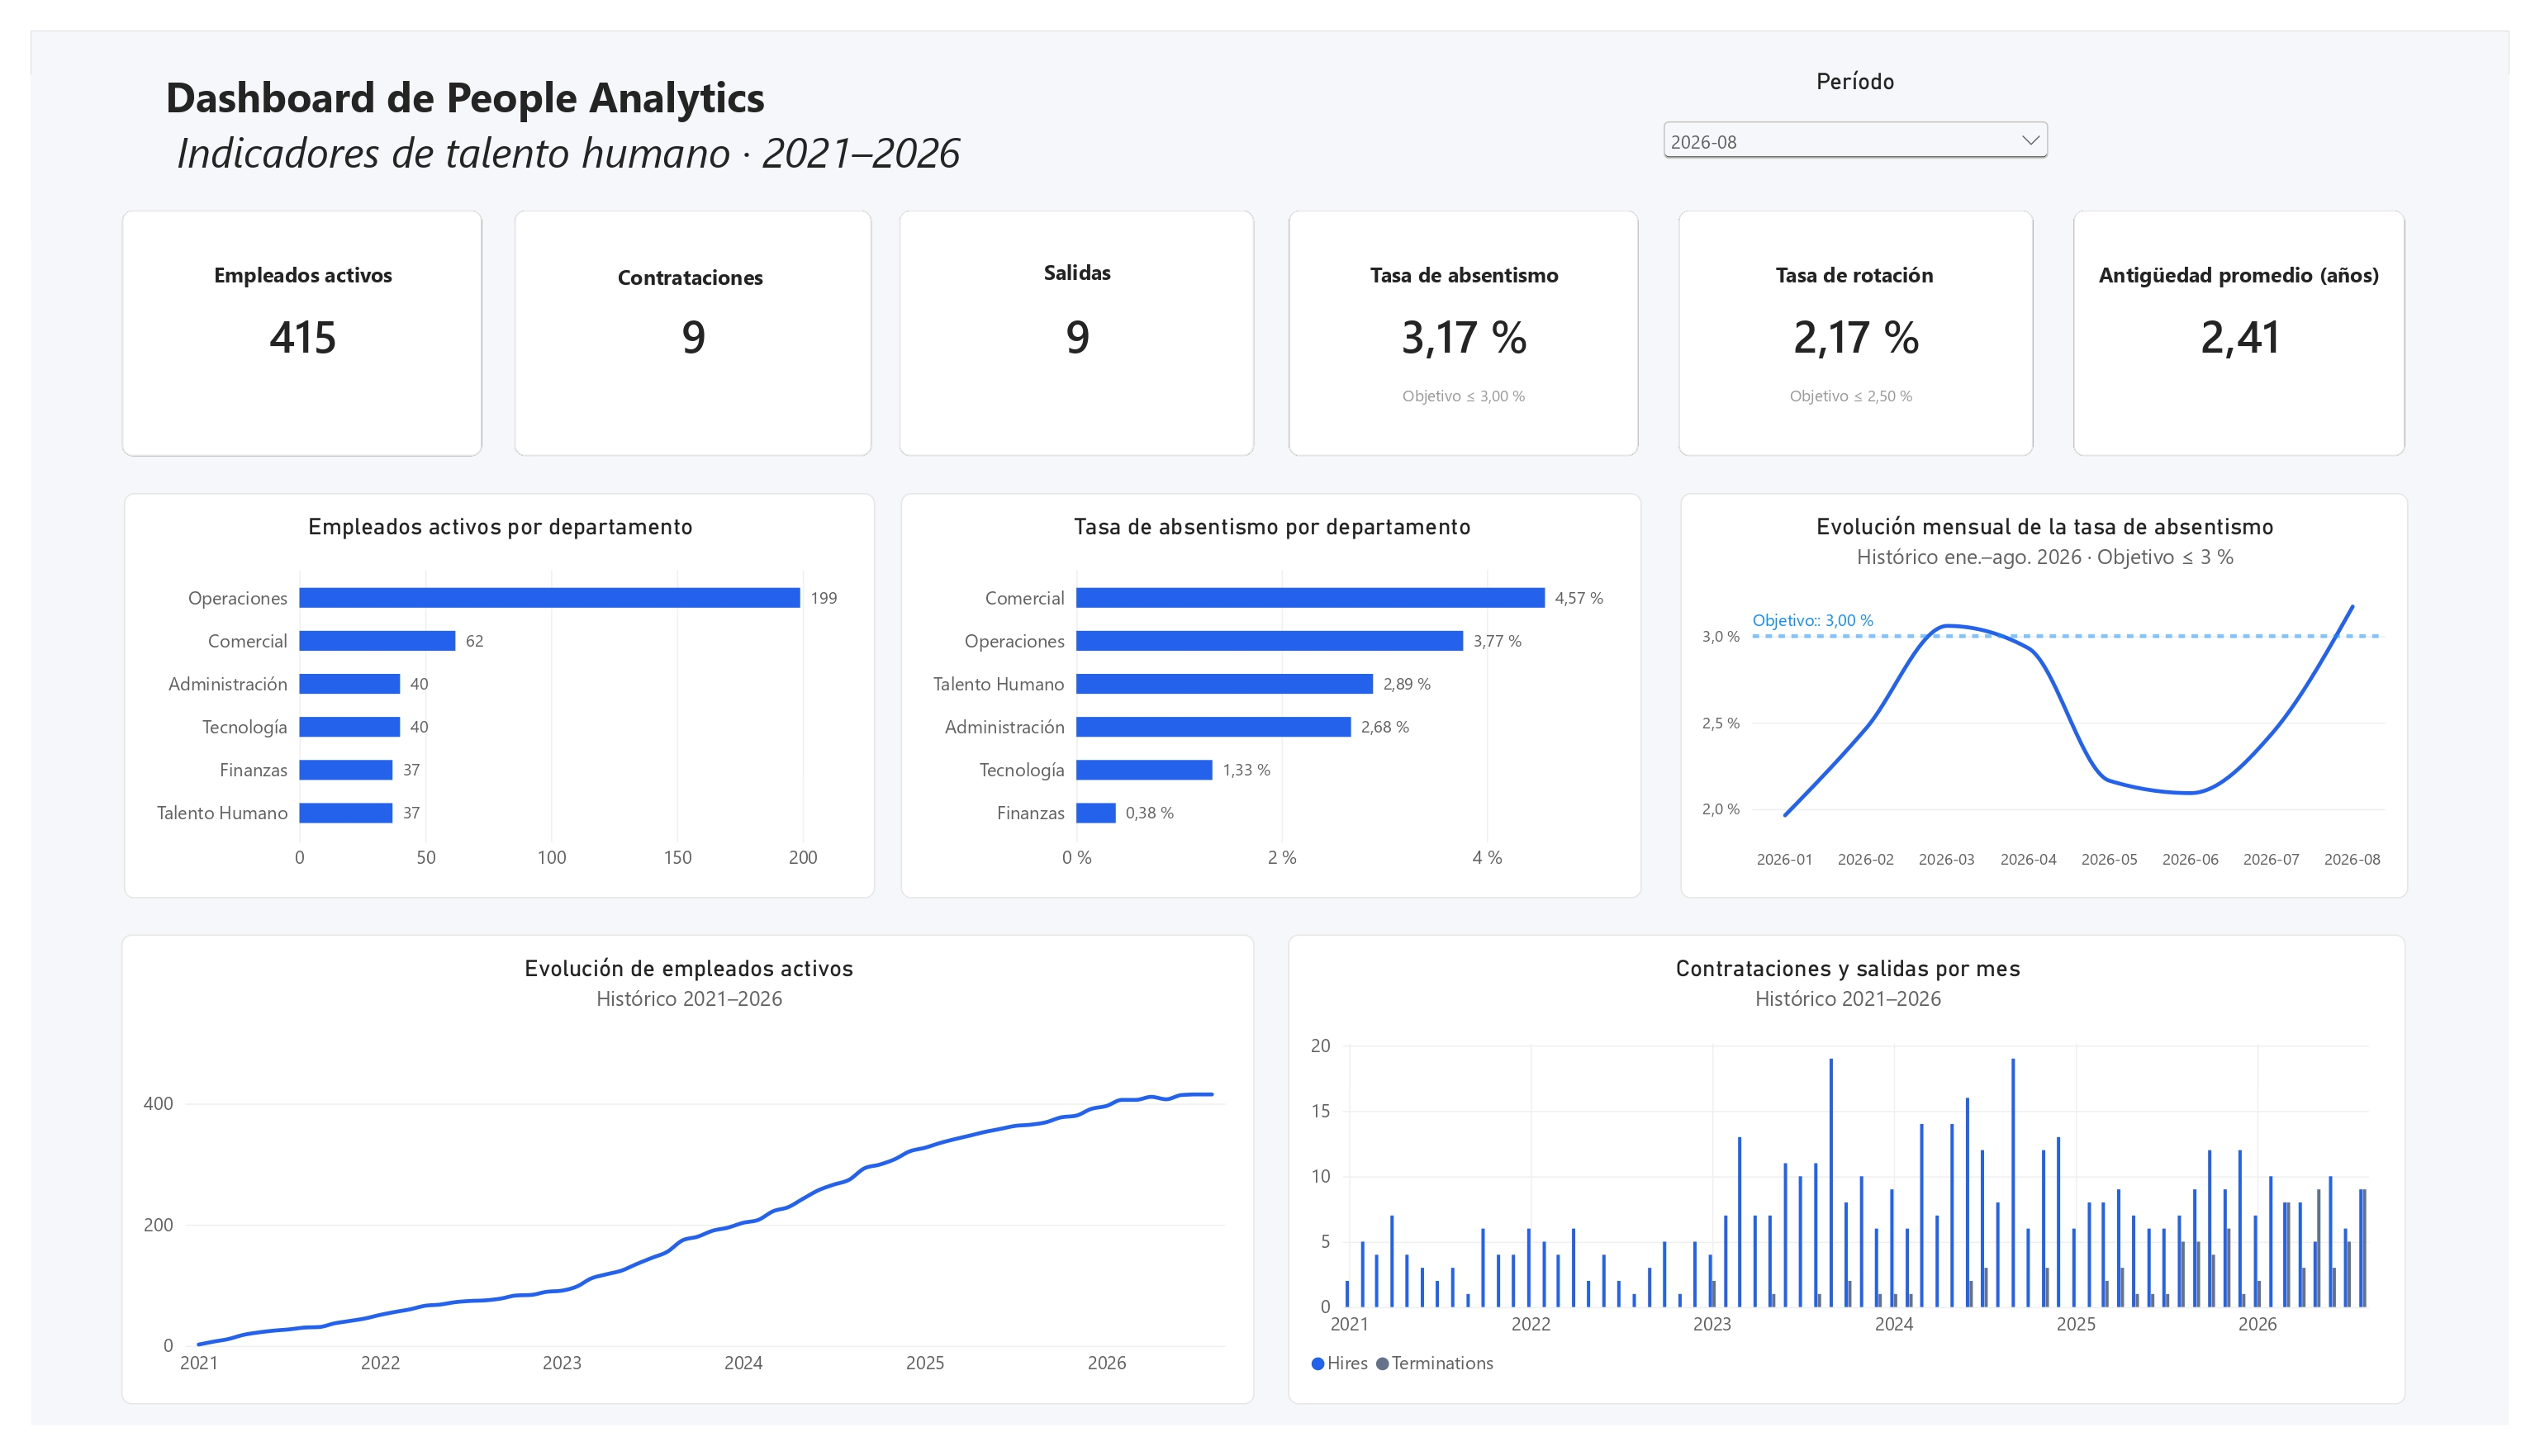

What the dashboard file says about the page in this screenshot:
{"tool":"powerbi","page":{"name":"Resumen ejecutivo","canvas":[1920,1080],"ordinal":0},"visuals":[{"type":"slicer","title":"Período","fields":{"Values":["CalendarTable.year_month"]},"box":[1260,28,308,90],"z":0},{"type":"cardVisual","title":"Empleados activos","fields":{"Data":["_Measures.Headcount"]},"box":[70,138,280,192],"z":0,"group":"g1"},{"type":"cardVisual","title":"Contrataciones","fields":{"Data":["_Measures.Hires"]},"box":[374,138,278,192],"z":1000,"group":"g1"},{"type":"lineChart","title":"Evolución de empleados activos","fields":{"Category":["CalendarTable.month_start"],"Y":["_Measures.Headcount"]},"box":[70,700,878,364],"z":1000},{"type":"cardVisual","title":"Salidas","fields":{"Data":["_Measures.Terminations"]},"box":[672,138,276,192],"z":2000,"group":"g1"},{"type":"clusteredColumnChart","title":"Contrataciones y salidas por mes","fields":{"Category":["CalendarTable.month_start"],"Y":["_Measures.Hires","_Measures.Terminations"]},"box":[974,700,866,364],"z":2000},{"type":"textbox","box":[104,28,686,110],"z":3000},{"type":"cardVisual","title":"Tasa de rotación","fields":{"Data":["_Measures.Turnover Rate"]},"box":[1276,138,276,192],"z":3000,"group":"g1"},{"type":"group","id":"g1","title":"Grupo 1","box":[70,138,1770,192],"z":4000},{"type":"cardVisual","title":"Tasa de absentismo","fields":{"Data":["_Measures.Absenteeism Rate"]},"box":[974,138,272,192],"z":4000,"group":"g1"},{"type":"cardVisual","title":"Antigüedad promedio (años)","fields":{"Data":["_Measures.Average Tenure Years"]},"box":[1582,138,258,192],"z":5000,"group":"g1"},{"type":"textbox","box":[86,178,250,42],"z":6000,"group":"g1"},{"type":"textbox","box":[386,180,250,42],"z":7000,"group":"g1"},{"type":"textbox","box":[686,176,250,44],"z":8000,"group":"g1"},{"type":"textbox","box":[986,178,250,38],"z":9000,"group":"g1"},{"type":"clusteredBarChart","title":"Empleados activos por departamento","fields":{"Category":["ContractsTable.department"],"Y":["_Measures.Headcount"]},"box":[72,358,582,314],"z":9000},{"type":"textbox","box":[1288,178,250,44],"z":10000,"group":"g1"},{"type":"clusteredBarChart","title":"Tasa de absentismo por departamento","fields":{"Category":["DepartmentsTable.department"],"Y":["_Measures.Absenteeism Rate"]},"box":[674,358,574,314],"z":10000},{"type":"textbox","box":[1586,178,250,40],"z":11000,"group":"g1"},{"type":"textbox","box":[1062.7,271.8,96.7,25.8],"z":12000,"group":"g1"},{"type":"textbox","box":[1362.7,271.8,100,25],"z":13000,"group":"g1"},{"type":"lineChart","title":"Evolución mensual de la tasa de absentismo","fields":{"Category":["CalendarTable.year_month"],"Y":["_Measures.Absenteeism Rate"]},"box":[1278,358,564,314],"z":18000}]}

Visuals, with their boxes on the page's 1920x1080 design canvas (x1, y1, x2, y2). These are canvas units, not pixel positions in the 2540x1456 screenshot, which may show the page scaled, cropped or inside an application window:
"Período" slicer: BBox(1260, 28, 1568, 118)
"Empleados activos" cardVisual: BBox(70, 138, 350, 330)
"Contrataciones" cardVisual: BBox(374, 138, 652, 330)
"Evolución de empleados activos" lineChart: BBox(70, 700, 948, 1064)
"Salidas" cardVisual: BBox(672, 138, 948, 330)
"Contrataciones y salidas por mes" clusteredColumnChart: BBox(974, 700, 1840, 1064)
textbox: BBox(104, 28, 790, 138)
"Tasa de rotación" cardVisual: BBox(1276, 138, 1552, 330)
"Grupo 1" group: BBox(70, 138, 1840, 330)
"Tasa de absentismo" cardVisual: BBox(974, 138, 1246, 330)
"Antigüedad promedio (años)" cardVisual: BBox(1582, 138, 1840, 330)
textbox: BBox(86, 178, 336, 220)
textbox: BBox(386, 180, 636, 222)
textbox: BBox(686, 176, 936, 220)
textbox: BBox(986, 178, 1236, 216)
"Empleados activos por departamento" clusteredBarChart: BBox(72, 358, 654, 672)
textbox: BBox(1288, 178, 1538, 222)
"Tasa de absentismo por departamento" clusteredBarChart: BBox(674, 358, 1248, 672)
textbox: BBox(1586, 178, 1836, 218)
textbox: BBox(1063, 272, 1159, 298)
textbox: BBox(1363, 272, 1463, 297)
"Evolución mensual de la tasa de absentismo" lineChart: BBox(1278, 358, 1842, 672)
